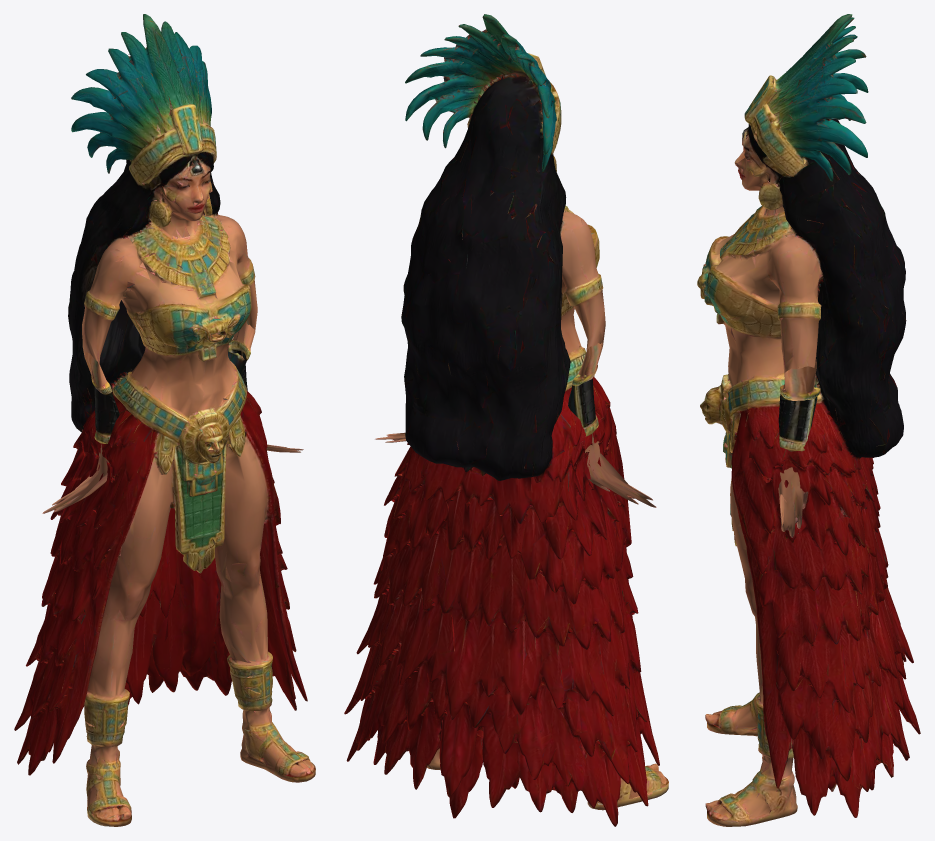
The model's file is human-w-q.glb.
3 renders of one model, left to right at view 1: azimuth 30°, elevation 25°; view 2: azimuth 150°, elevation 25°; view 3: azimuth 270°, elevation 25°, orthographic. The views are drawn at different scales.
Visible parts, largest first — view 1: Mesh_0; view 2: Mesh_0; view 3: Mesh_0.
Part boxes in pixels (x1,y1,x2,y2): Mesh_0: (14,14,315,826); Mesh_0: (344,14,668,826); Mesh_0: (697,14,920,826).
Bounding box in the file's own units: 0.6468 × 1.7 × 0.4543.
1 material, 1 textured.
